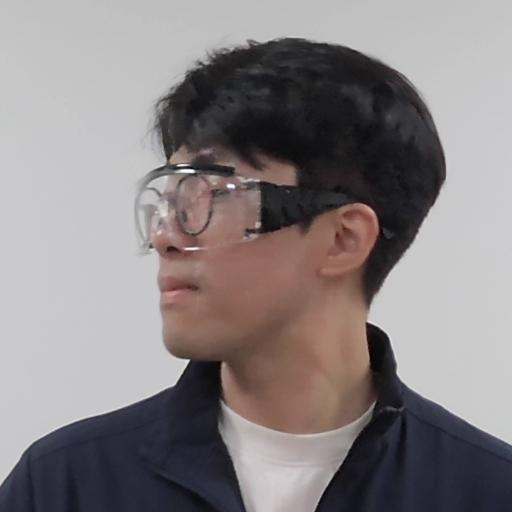glasses: (127, 37, 448, 371)
